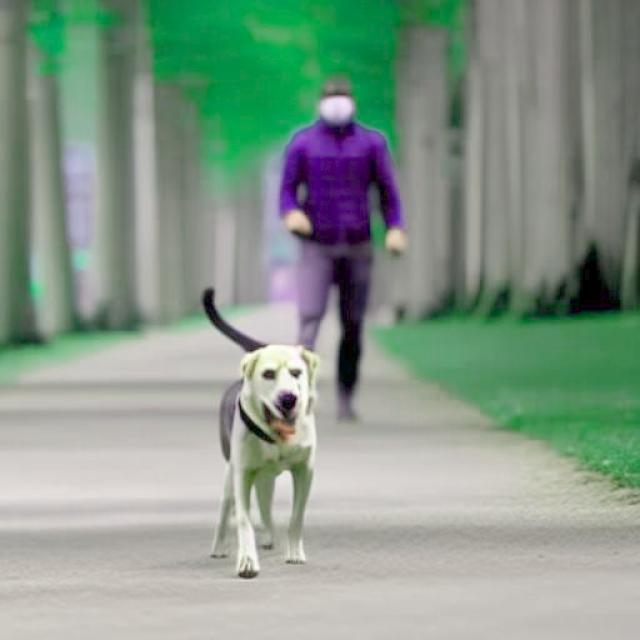Unleashed_Dog: (200, 236, 375, 579)
